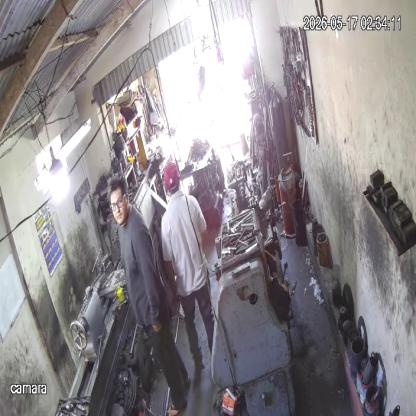lentes: (109, 195, 126, 211)
